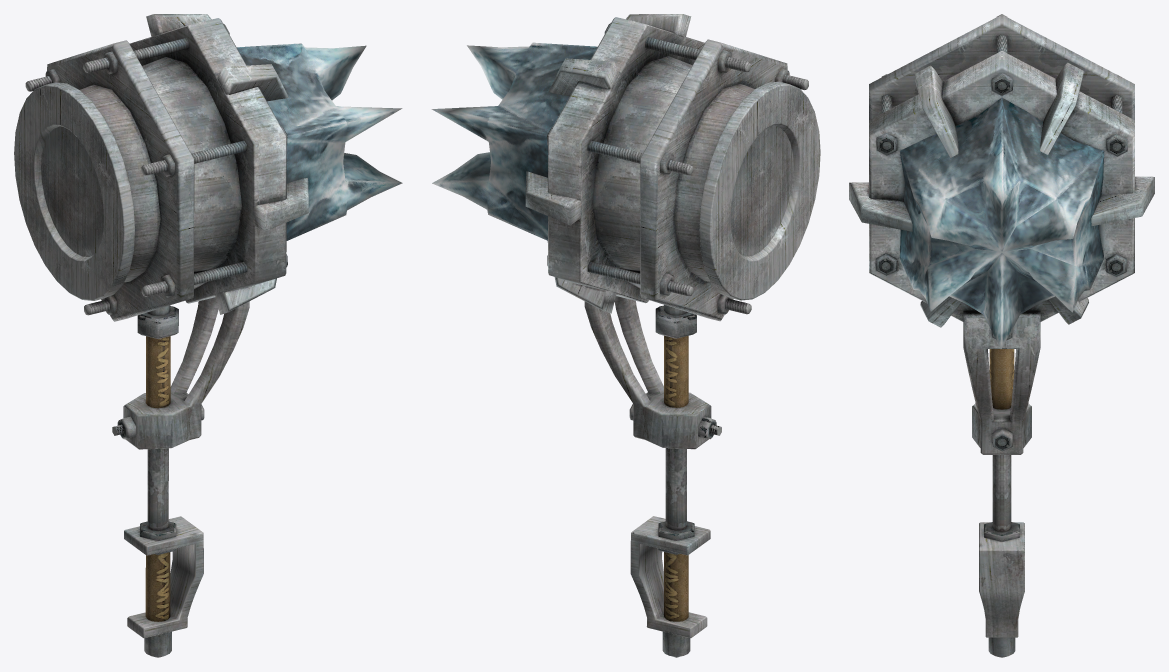
Rendered from ham007.obj.
3 views of the same model, side by side, from view 1: azimuth 30°, elevation 25°; view 2: azimuth 150°, elevation 25°; view 3: azimuth 270°, elevation 25° (orthographic).
Parts seen in each view (by area): view 1: ham007_000_LOD_1; view 2: ham007_000_LOD_1; view 3: ham007_000_LOD_1.
Boxes of the visible parts, x1=… form: ham007_000_LOD_1: x1=14, y1=14, x2=402, y2=657; ham007_000_LOD_1: x1=431, y1=14, x2=820, y2=657; ham007_000_LOD_1: x1=849, y1=14, x2=1154, y2=657.
Size of the model in its own units: 96.91 by 194 by 86.45.
